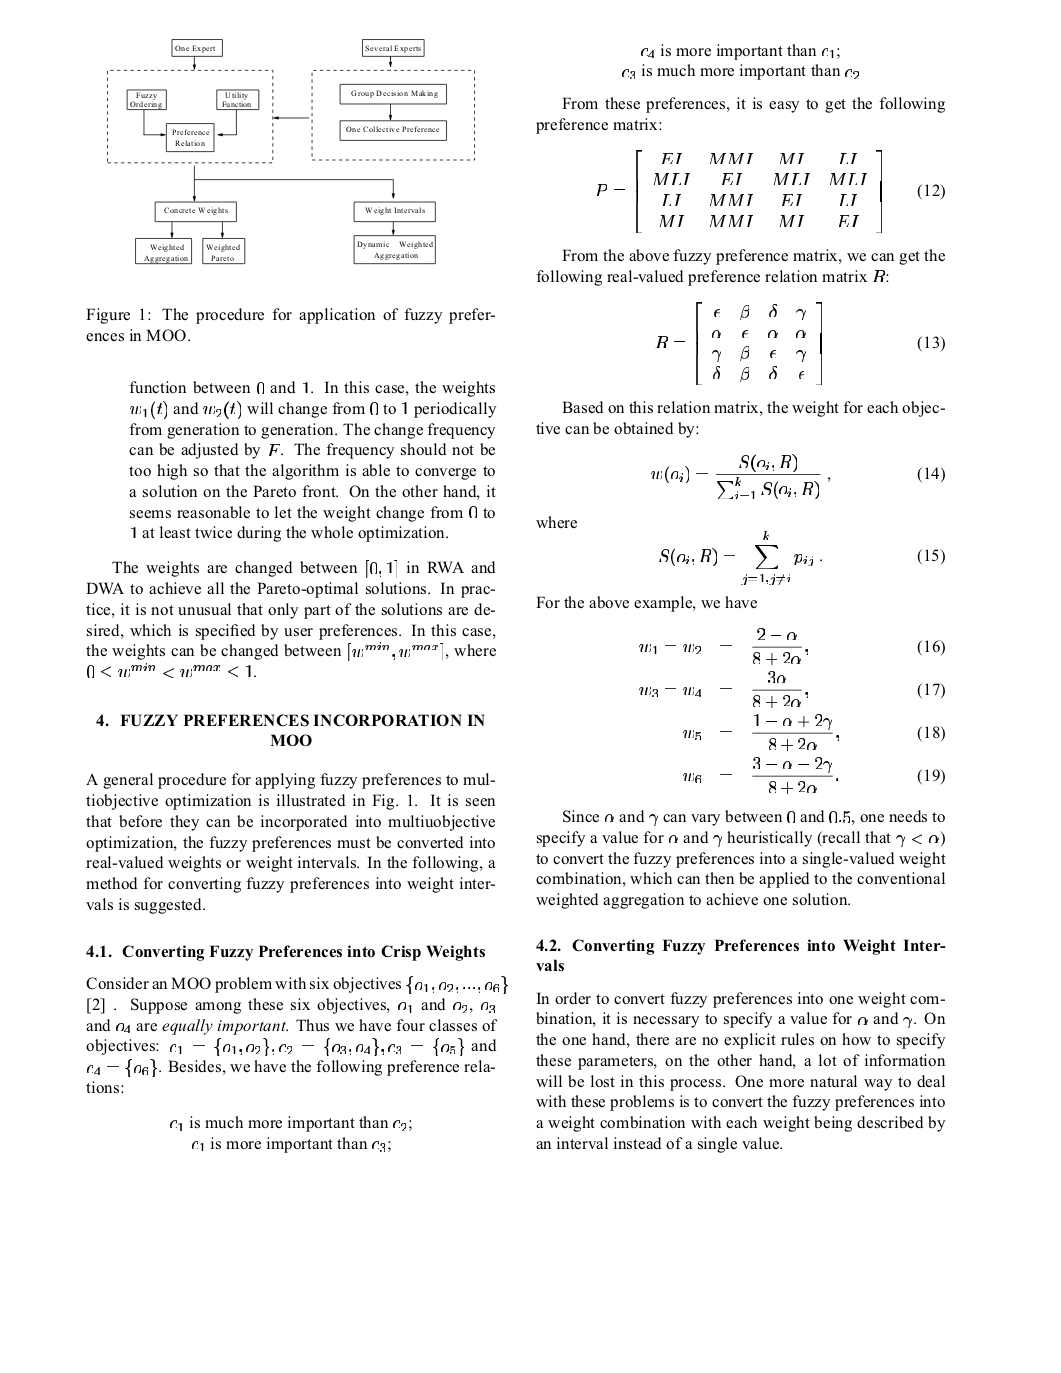figure: (107, 38, 474, 265)
formula: (597, 149, 944, 233), (655, 301, 944, 384), (659, 530, 944, 584), (651, 452, 944, 499), (639, 627, 944, 665), (639, 670, 944, 708), (683, 712, 944, 751), (683, 754, 944, 793), (87, 663, 255, 676)
